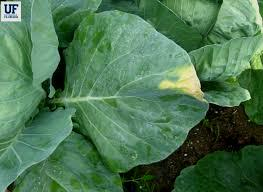Bok-Choy-Diseased: (55, 16, 206, 165)
